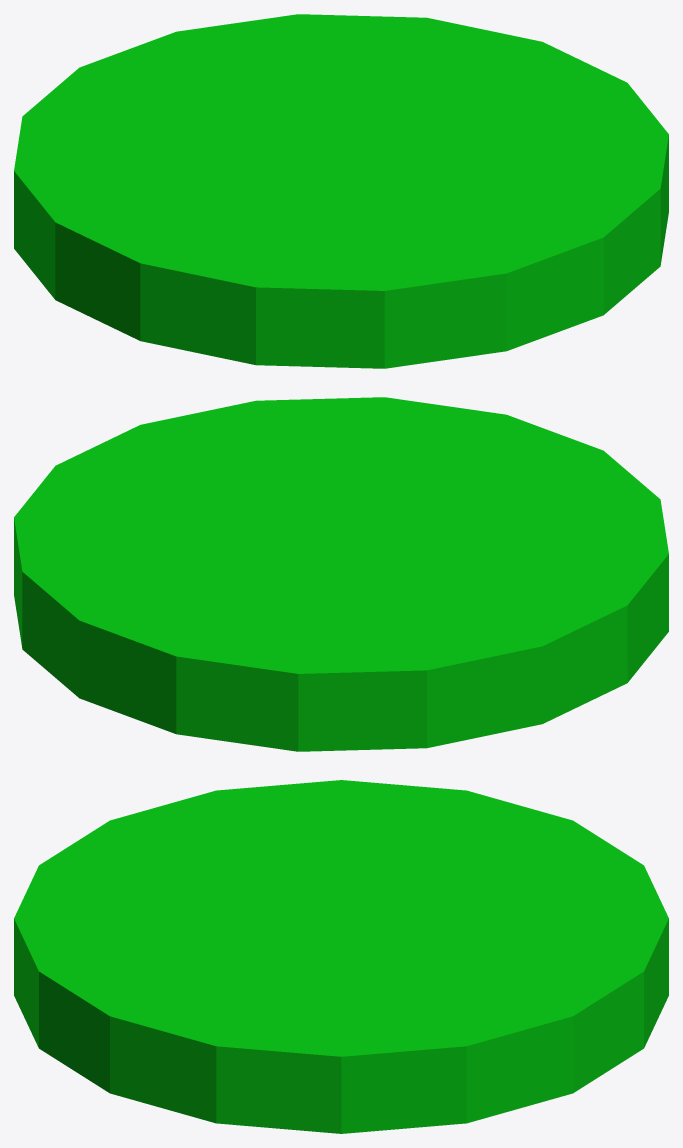
The model's file is button.obj.
3 renders of one model, top to bottom at view 1: azimuth 30°, elevation 25°; view 2: azimuth 150°, elevation 25°; view 3: azimuth 270°, elevation 25°, orthographic.
Visible parts, largest first — view 1: Cylinder; view 2: Cylinder; view 3: Cylinder.
Boxes of the visible parts, x1,y1,x2,y2 form: Cylinder: (14, 14, 668, 368); Cylinder: (14, 397, 668, 751); Cylinder: (14, 780, 668, 1133).
Size of the model in its own units: 2 by 0.26 by 2.
